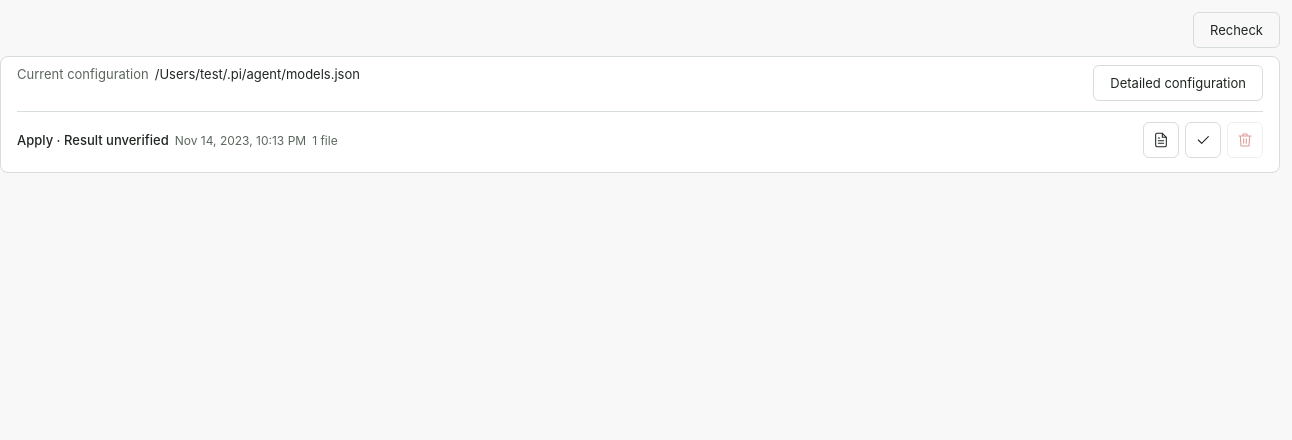
it: diverged observations stay visible without a confirmation action
Click the button named "Inspect interrupted write": [1203, 140] box [1185, 122, 1221, 158]
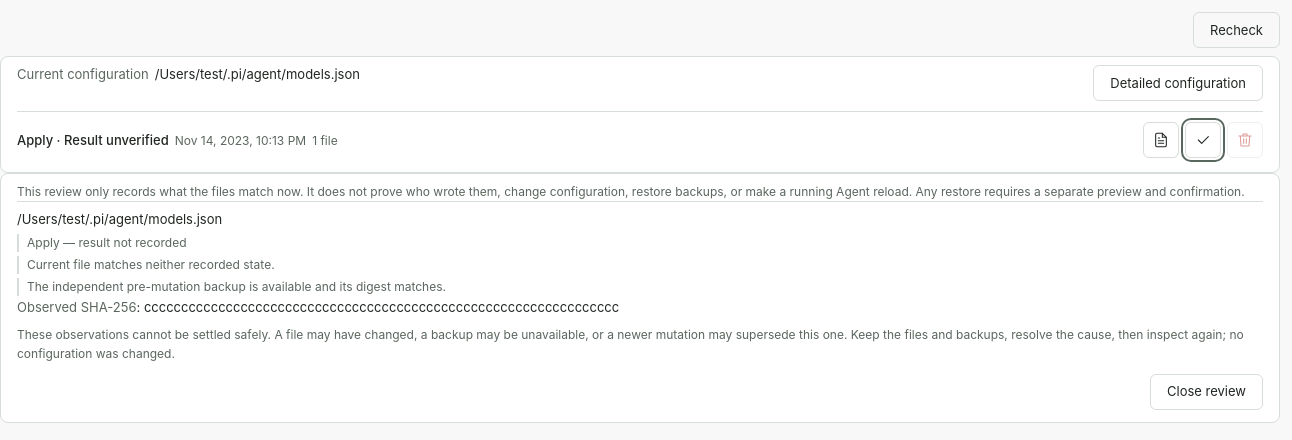
Now the text "cannot be settled safely" is shown, box [17, 327, 1244, 361]
